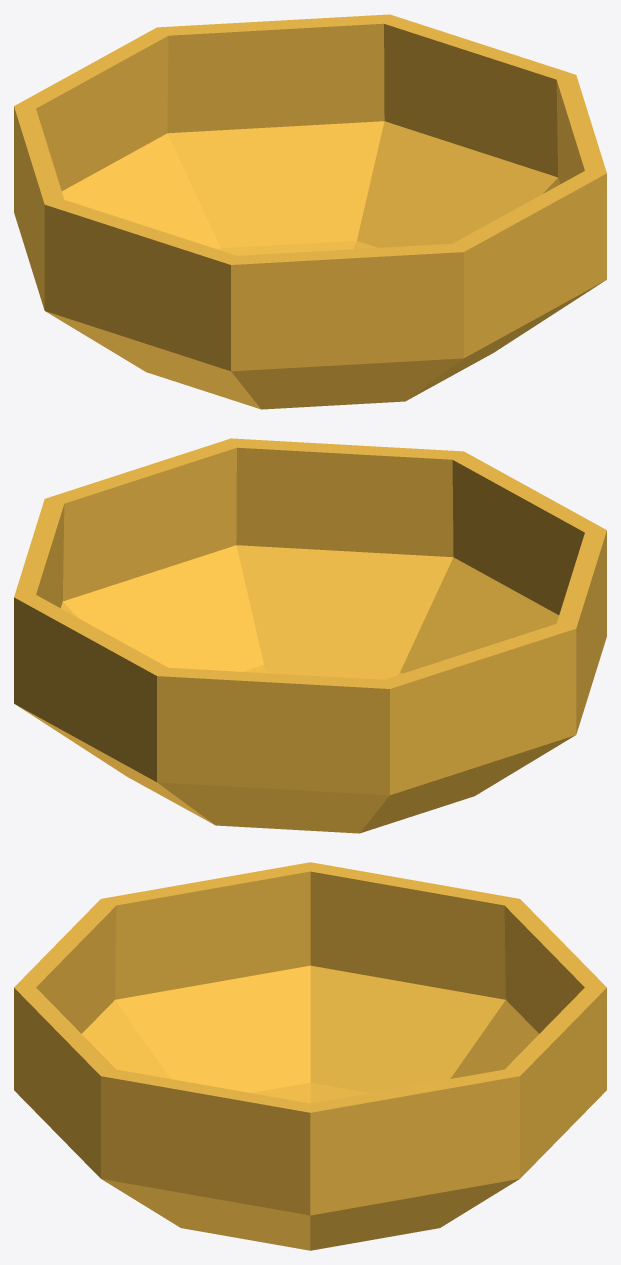
File: MorteroBase.fbx
3 renders of one model, top to bottom at view 1: azimuth 30°, elevation 25°; view 2: azimuth 150°, elevation 25°; view 3: azimuth 270°, elevation 25°, orthographic. The views are drawn at different scales.
Parts seen in each view (by area): view 1: MorteroBase; view 2: MorteroBase; view 3: MorteroBase.
Part boxes in pixels (x1,y1,x2,y2): MorteroBase: (14, 14, 606, 409); MorteroBase: (14, 438, 606, 833); MorteroBase: (14, 862, 606, 1250).
Bounding box in the file's own units: 323 × 131 × 323.
